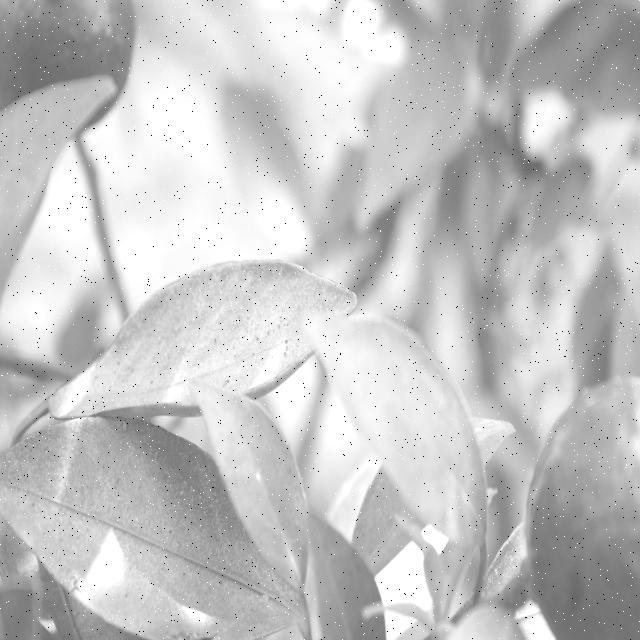blackspot: (21, 434, 270, 640), (84, 282, 299, 408)
